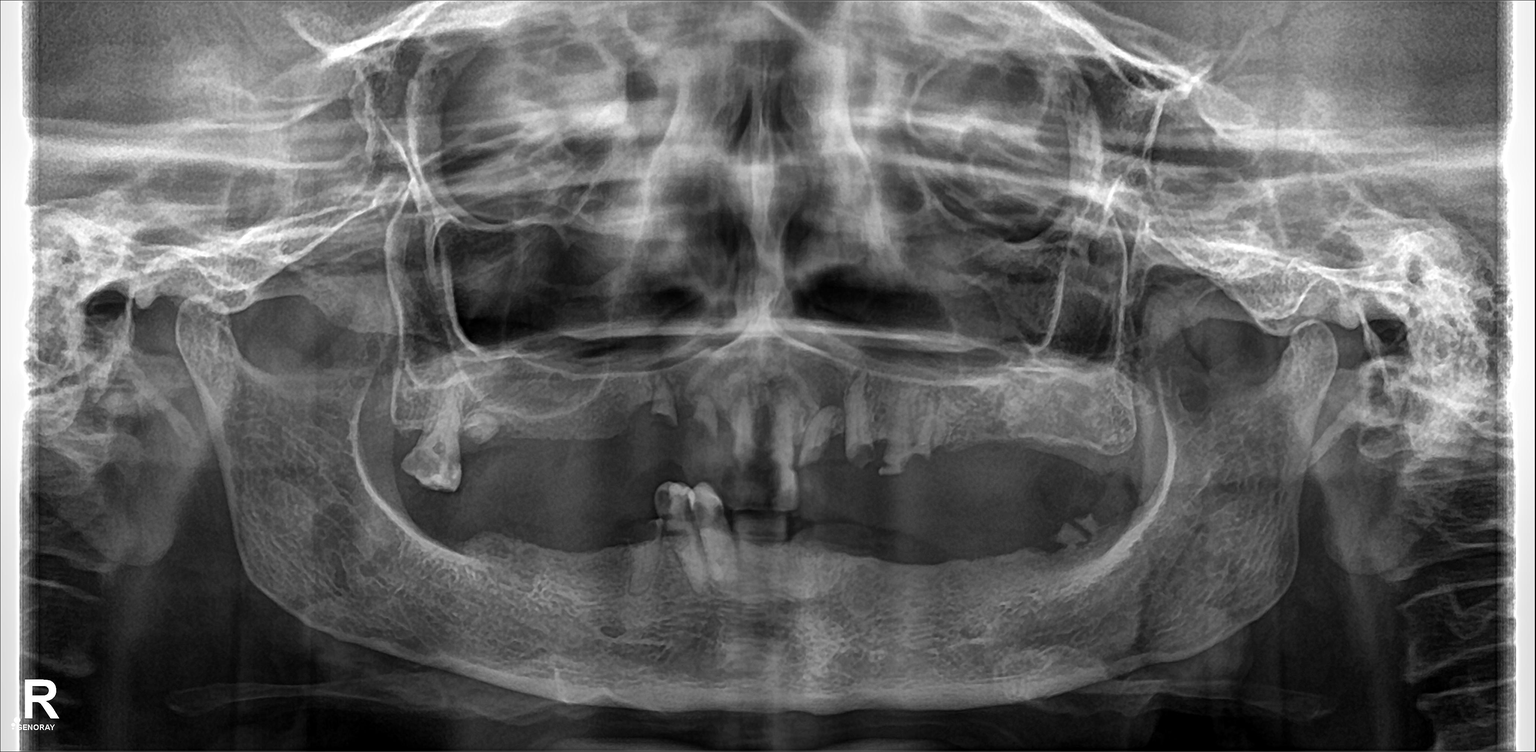Dental Caries: (399, 445, 444, 478)
Missing Tooth: (916, 504, 974, 606), (790, 501, 843, 605), (991, 499, 1028, 612), (1004, 380, 1044, 478), (358, 383, 411, 456), (588, 376, 627, 471), (1088, 370, 1126, 466), (546, 508, 584, 596), (503, 389, 541, 475), (957, 382, 992, 474), (862, 508, 901, 587), (1043, 380, 1074, 477), (585, 501, 617, 594), (412, 503, 453, 569), (1117, 486, 1153, 559), (467, 501, 498, 582), (551, 382, 580, 468), (507, 508, 533, 575)
Retained Root: (795, 382, 846, 477), (633, 365, 681, 453), (622, 499, 666, 593), (1050, 484, 1086, 573), (689, 374, 724, 462), (849, 376, 882, 468), (730, 378, 761, 472), (886, 387, 915, 486), (464, 404, 502, 462), (927, 382, 946, 469), (1084, 495, 1104, 554)
